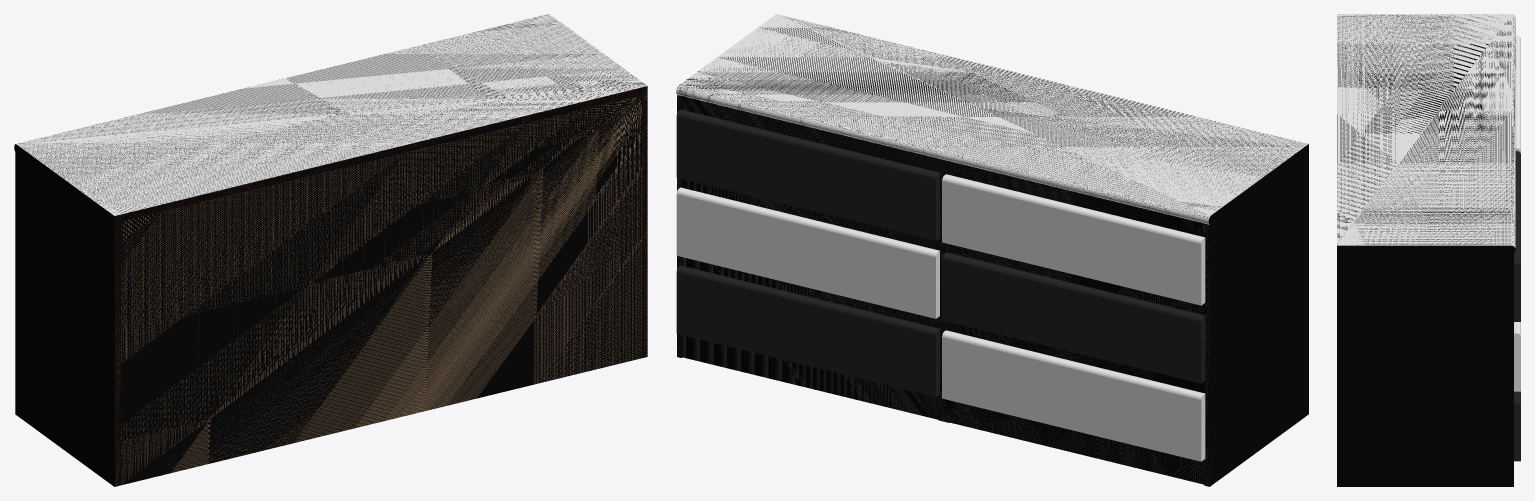
3 renders of one model, left to right at view 1: azimuth 30°, elevation 25°; view 2: azimuth 150°, elevation 25°; view 3: azimuth 270°, elevation 25°, orthographic. The views are drawn at different scales.
Visible parts, largest first — view 1: mesh13_mesh13-geometry; view 2: mesh13_mesh13-geometry, mesh9_mesh9-geometry, mesh1_mesh1-geometry, mesh7_mesh7-geometry, mesh11_mesh11-geometry, mesh3_mesh3-geometry, mesh5_mesh5-geometry; view 3: mesh13_mesh13-geometry, mesh5_mesh5-geometry, mesh1_mesh1-geometry, mesh7_mesh7-geometry, mesh3_mesh3-geometry.
Part boxes in pixels (left/top/right/bottom): mesh13_mesh13-geometry: left=14, top=14, right=647, bottom=486; mesh13_mesh13-geometry: left=676, top=14, right=1308, bottom=486; mesh9_mesh9-geometry: left=942, top=252, right=1205, bottom=383; mesh1_mesh1-geometry: left=942, top=174, right=1205, bottom=305; mesh7_mesh7-geometry: left=676, top=265, right=939, bottom=396; mesh11_mesh11-geometry: left=942, top=330, right=1205, bottom=461; mesh3_mesh3-geometry: left=676, top=187, right=939, bottom=318; mesh5_mesh5-geometry: left=676, top=109, right=939, bottom=240; mesh13_mesh13-geometry: left=1337, top=14, right=1515, bottom=486; mesh5_mesh5-geometry: left=1514, top=151, right=1520, bottom=321; mesh1_mesh1-geometry: left=1515, top=35, right=1520, bottom=153; mesh7_mesh7-geometry: left=1514, top=391, right=1520, bottom=461; mesh3_mesh3-geometry: left=1514, top=322, right=1520, bottom=391.
Bounding box in the file's own units: 0.8613 × 0.418 × 0.289.
